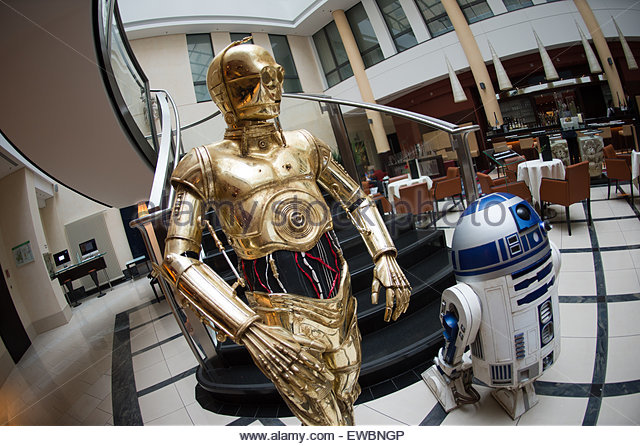r2d2: (421, 192, 562, 422)
